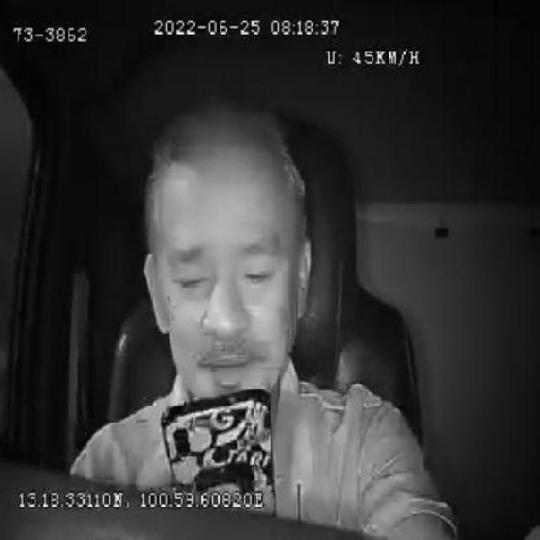phone: (161, 387, 276, 492)
